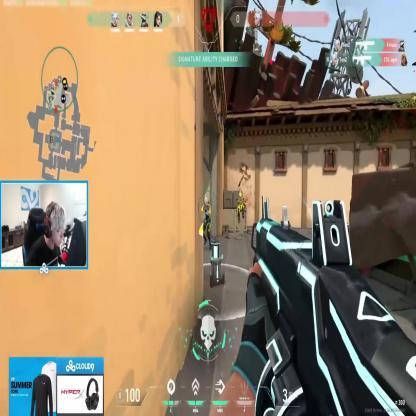enemy: (198, 192, 214, 254)
enemy_head: (204, 195, 209, 208)
